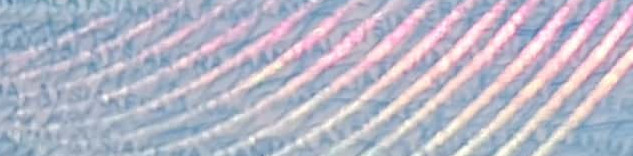hologram: (1, 2, 627, 156)
